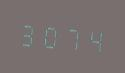four: (84, 22, 105, 56)
seven: (62, 20, 83, 54)
three: (18, 16, 39, 50)
zero: (40, 18, 61, 52)
